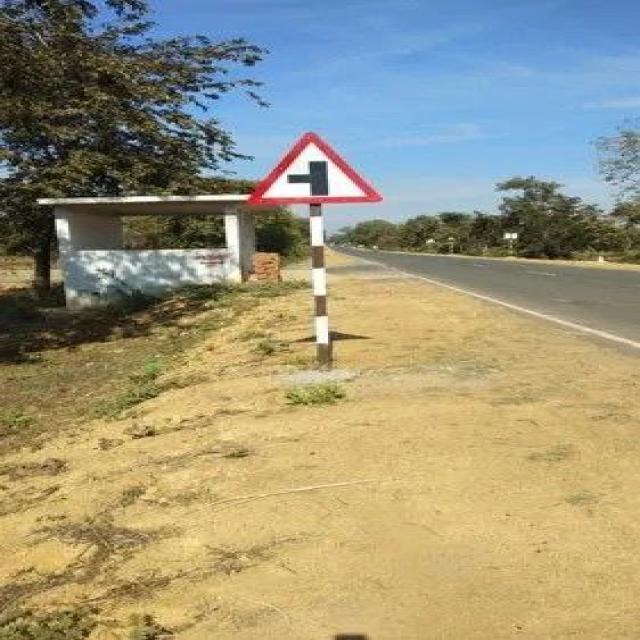side road left: (244, 127, 386, 209)
